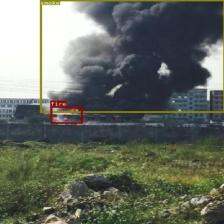fire: (50, 106, 82, 123)
smoke: (39, 0, 224, 112)
